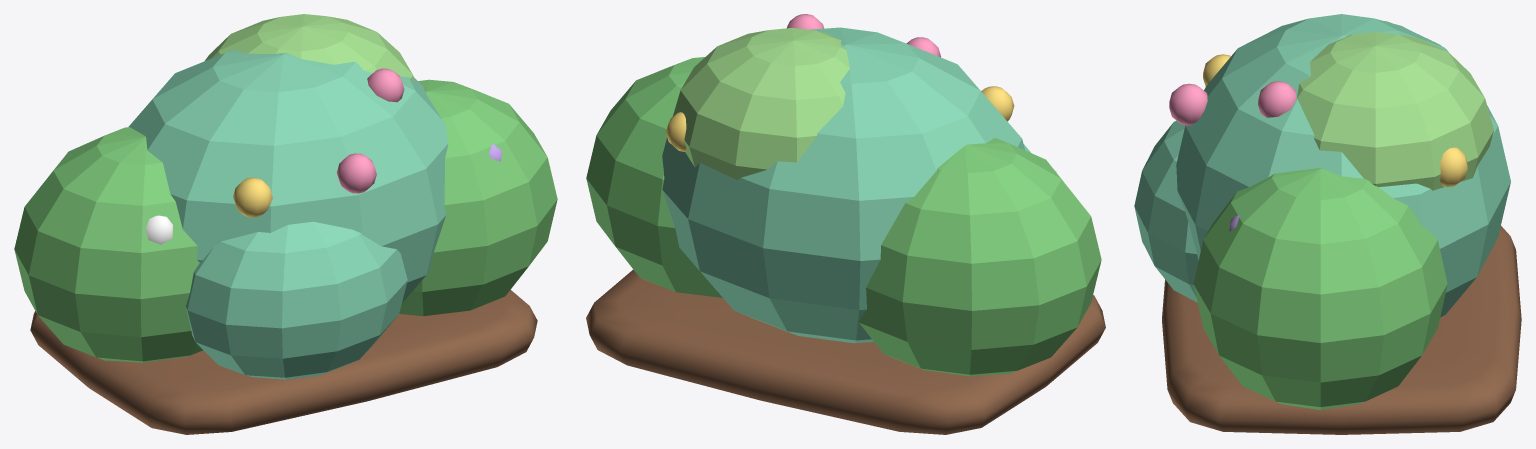
Rendered from bush.glb.
3 views of the same model, side by side, from view 1: azimuth 30°, elevation 25°; view 2: azimuth 150°, elevation 25°; view 3: azimuth 270°, elevation 25° (orthographic). The views are drawn at different scales.
Visible parts, largest first — view 1: bush; view 2: bush; view 3: bush.
Part boxes in pixels (x1,y1,x2,y2): bush: (14, 14, 557, 434); bush: (586, 14, 1105, 434); bush: (1134, 14, 1521, 434).
Size of the model in its own units: 1.41 by 0.82 by 0.915.
Materials: 1 (1 with a texture image).
